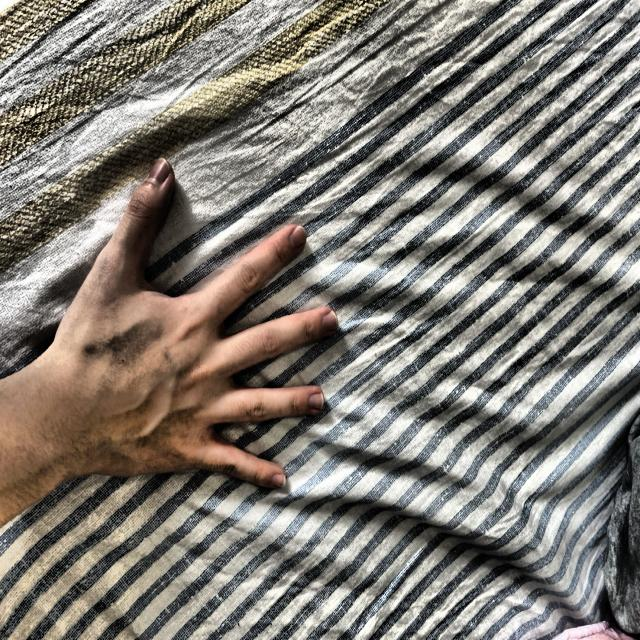not-gloved: (0, 136, 371, 550)
